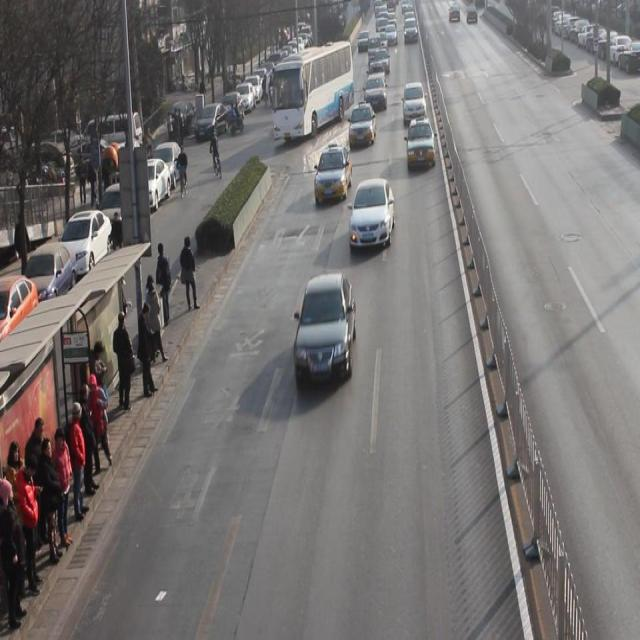car: (294, 276, 358, 384), (348, 180, 396, 253), (314, 146, 353, 204), (406, 118, 435, 168), (349, 105, 377, 146), (402, 82, 427, 124), (364, 74, 387, 112)
van: (273, 41, 353, 139)
